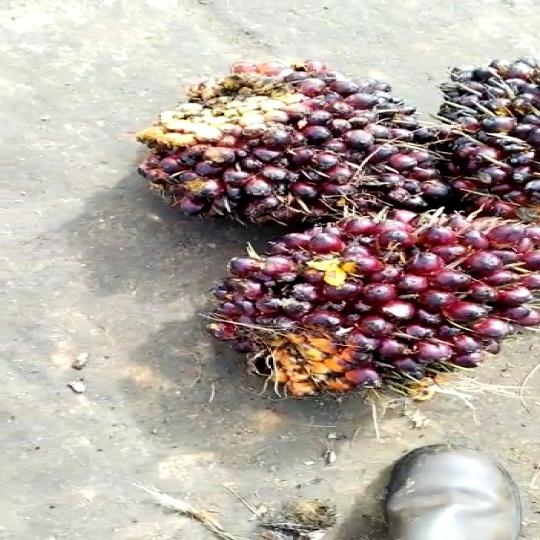kurang masak: (193, 212, 540, 404), (139, 56, 436, 242), (424, 45, 540, 248)
